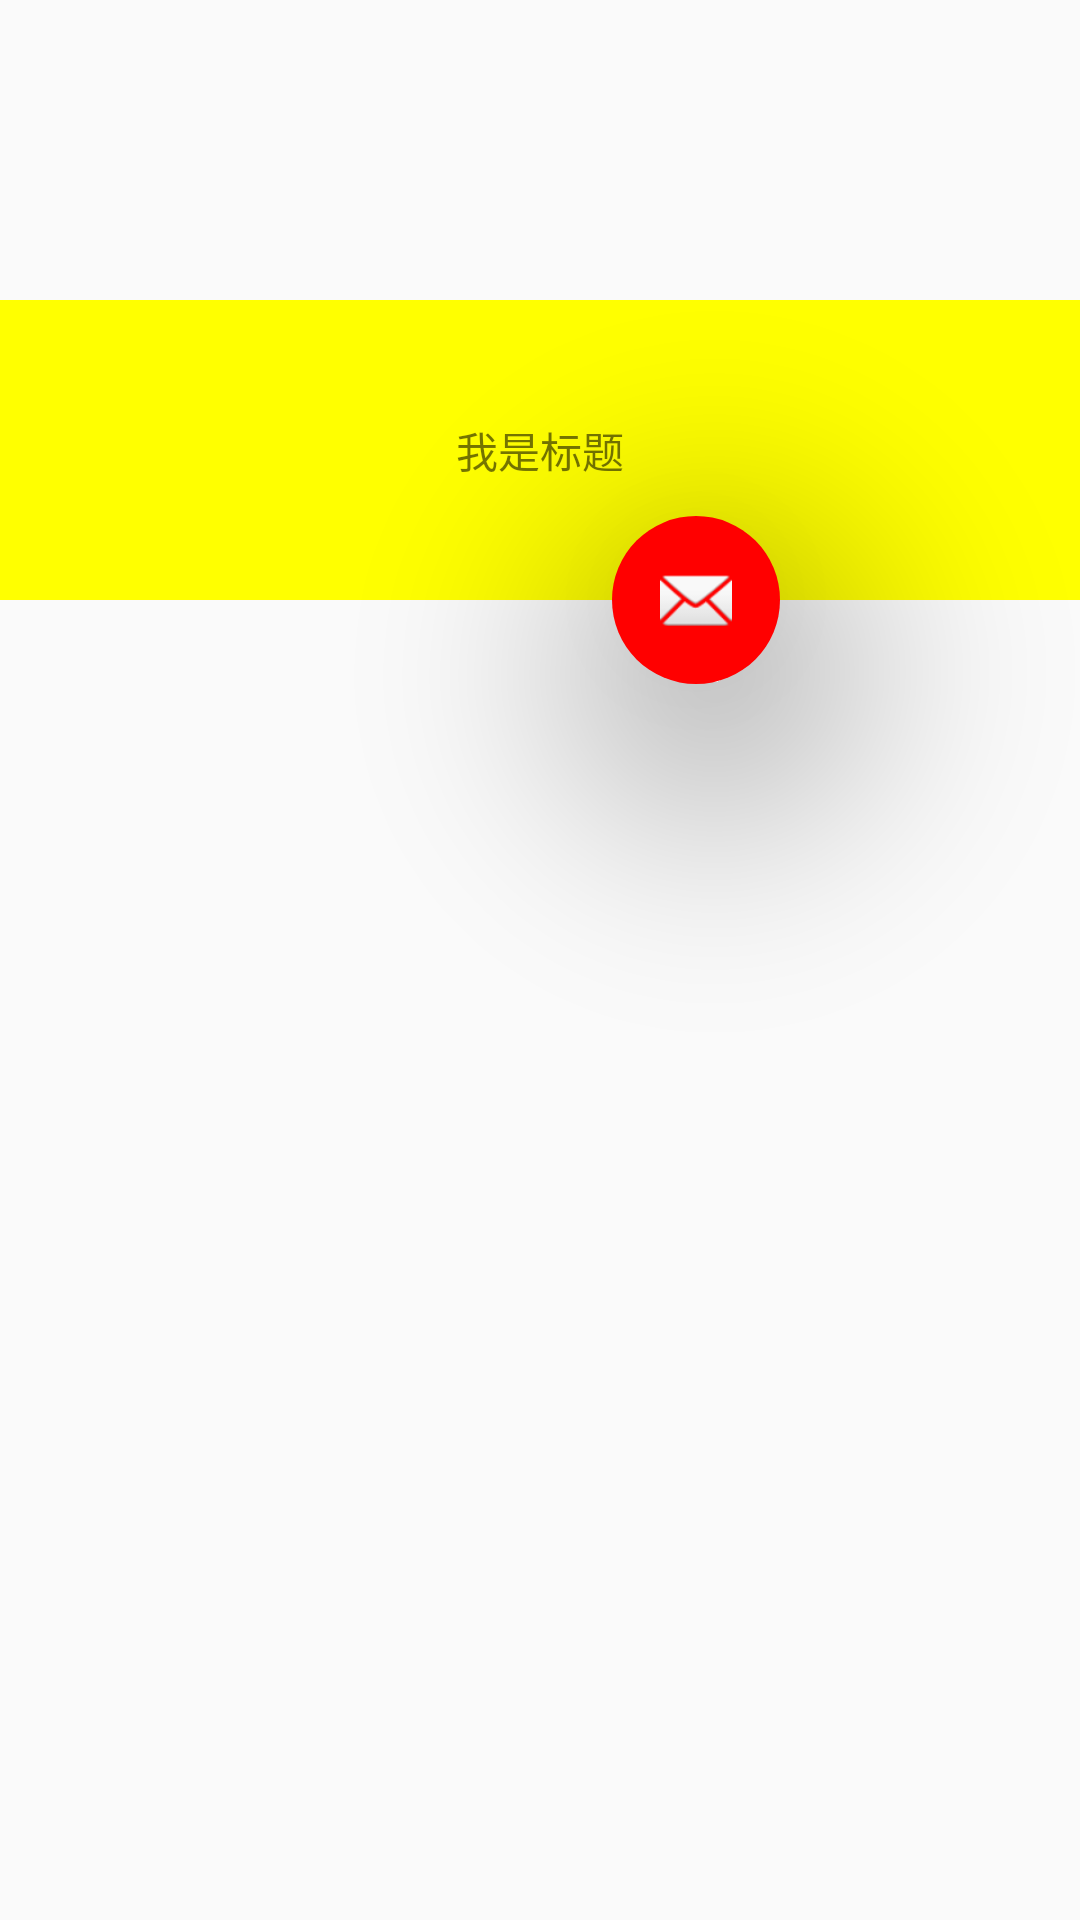

Icons on this 1080px x 1920px Android screen, each with the point to tap as (x,y):
email: (696,600)
